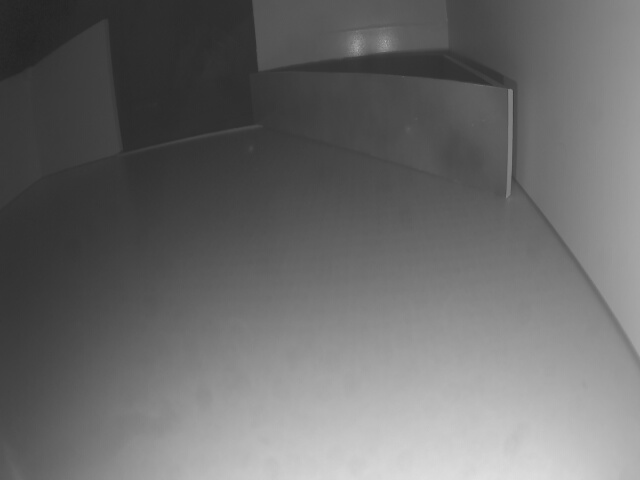Red: (250, 76, 511, 201)
